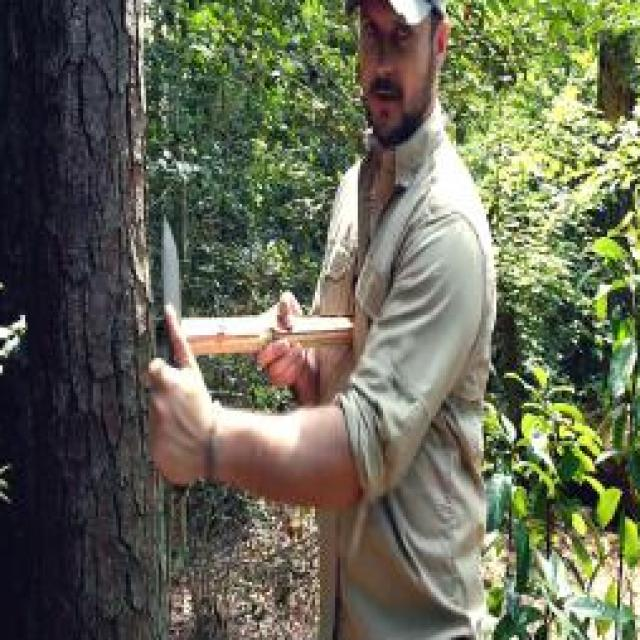knife: (142, 202, 192, 438)
